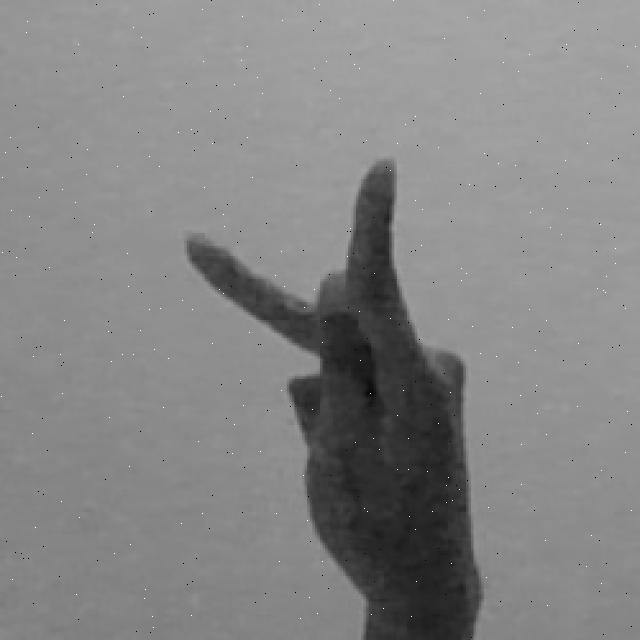K: (182, 148, 492, 640)
